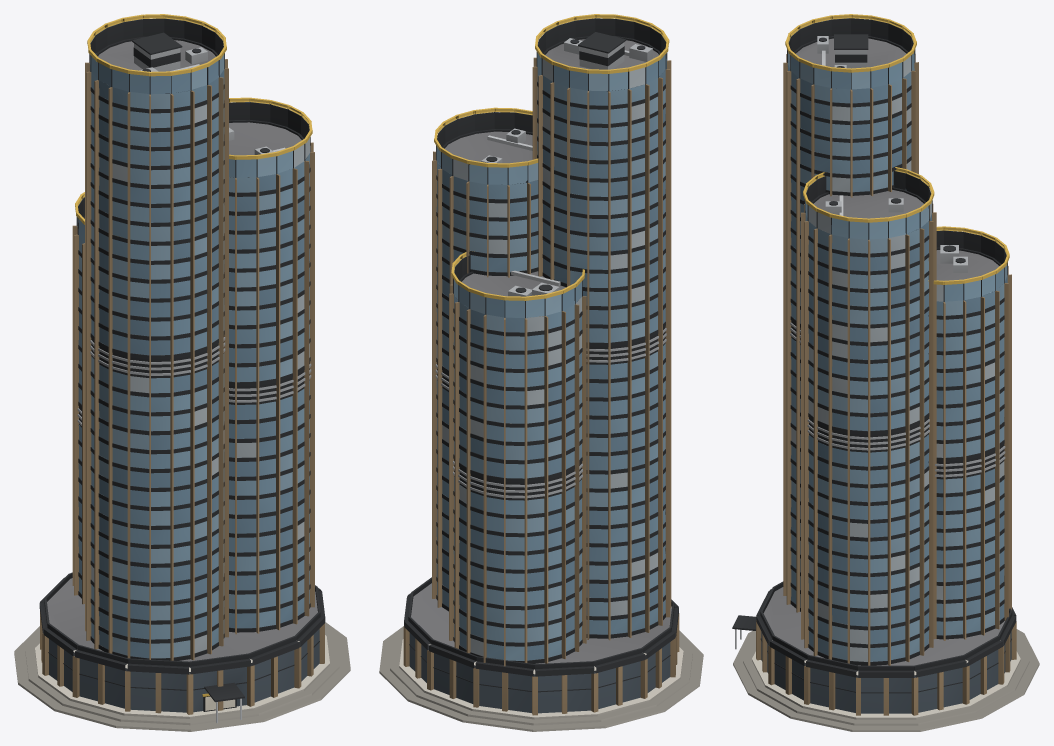
3 renders of one model, left to right at view 1: azimuth 30°, elevation 25°; view 2: azimuth 150°, elevation 25°; view 3: azimuth 270°, elevation 25°, orthographic. The views are drawn at different scales.
Visible parts, largest first — view 1: t5; view 2: t5; view 3: t5.
Part boxes in pixels (x1=…): t5: x1=14, y1=14, x2=350, y2=731; t5: x1=379, y1=14, x2=703, y2=731; t5: x1=732, y1=14, x2=1039, y2=731.
Bounding box in the file's own units: 63.04 × 133 × 61.14.
